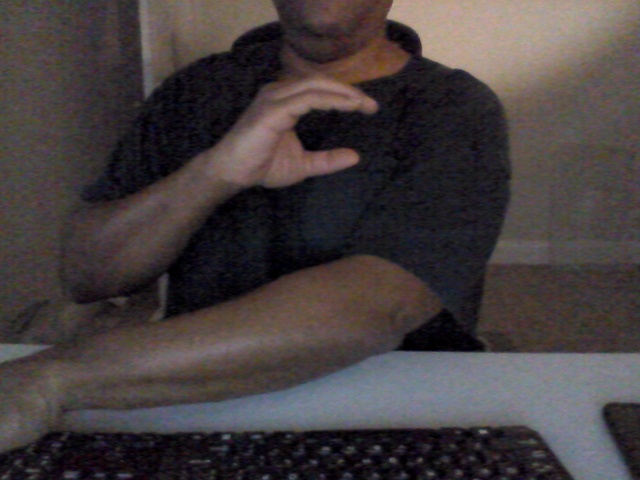police: (211, 66, 384, 195)
